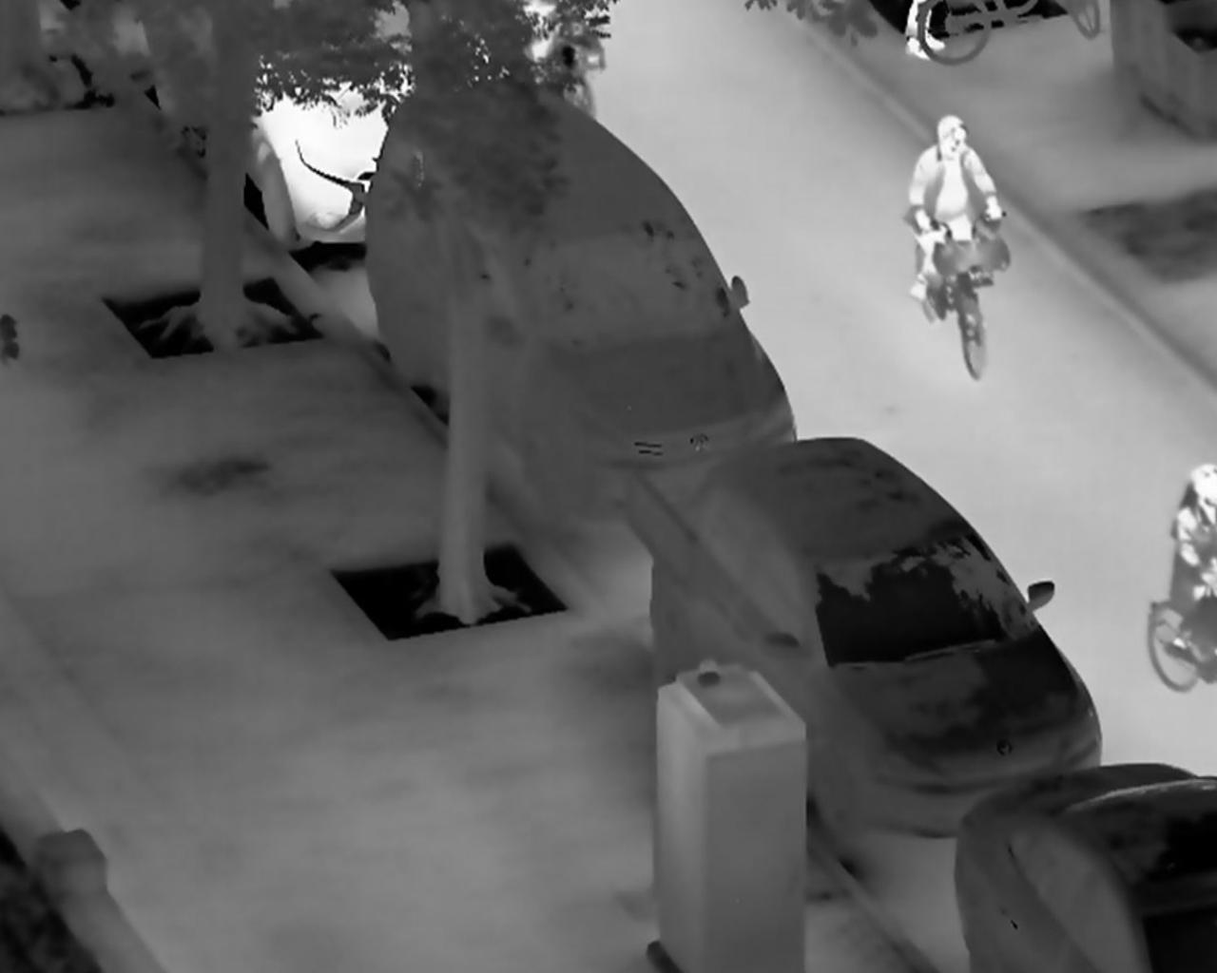person: (907, 112, 1008, 303), (1166, 457, 1217, 659)
